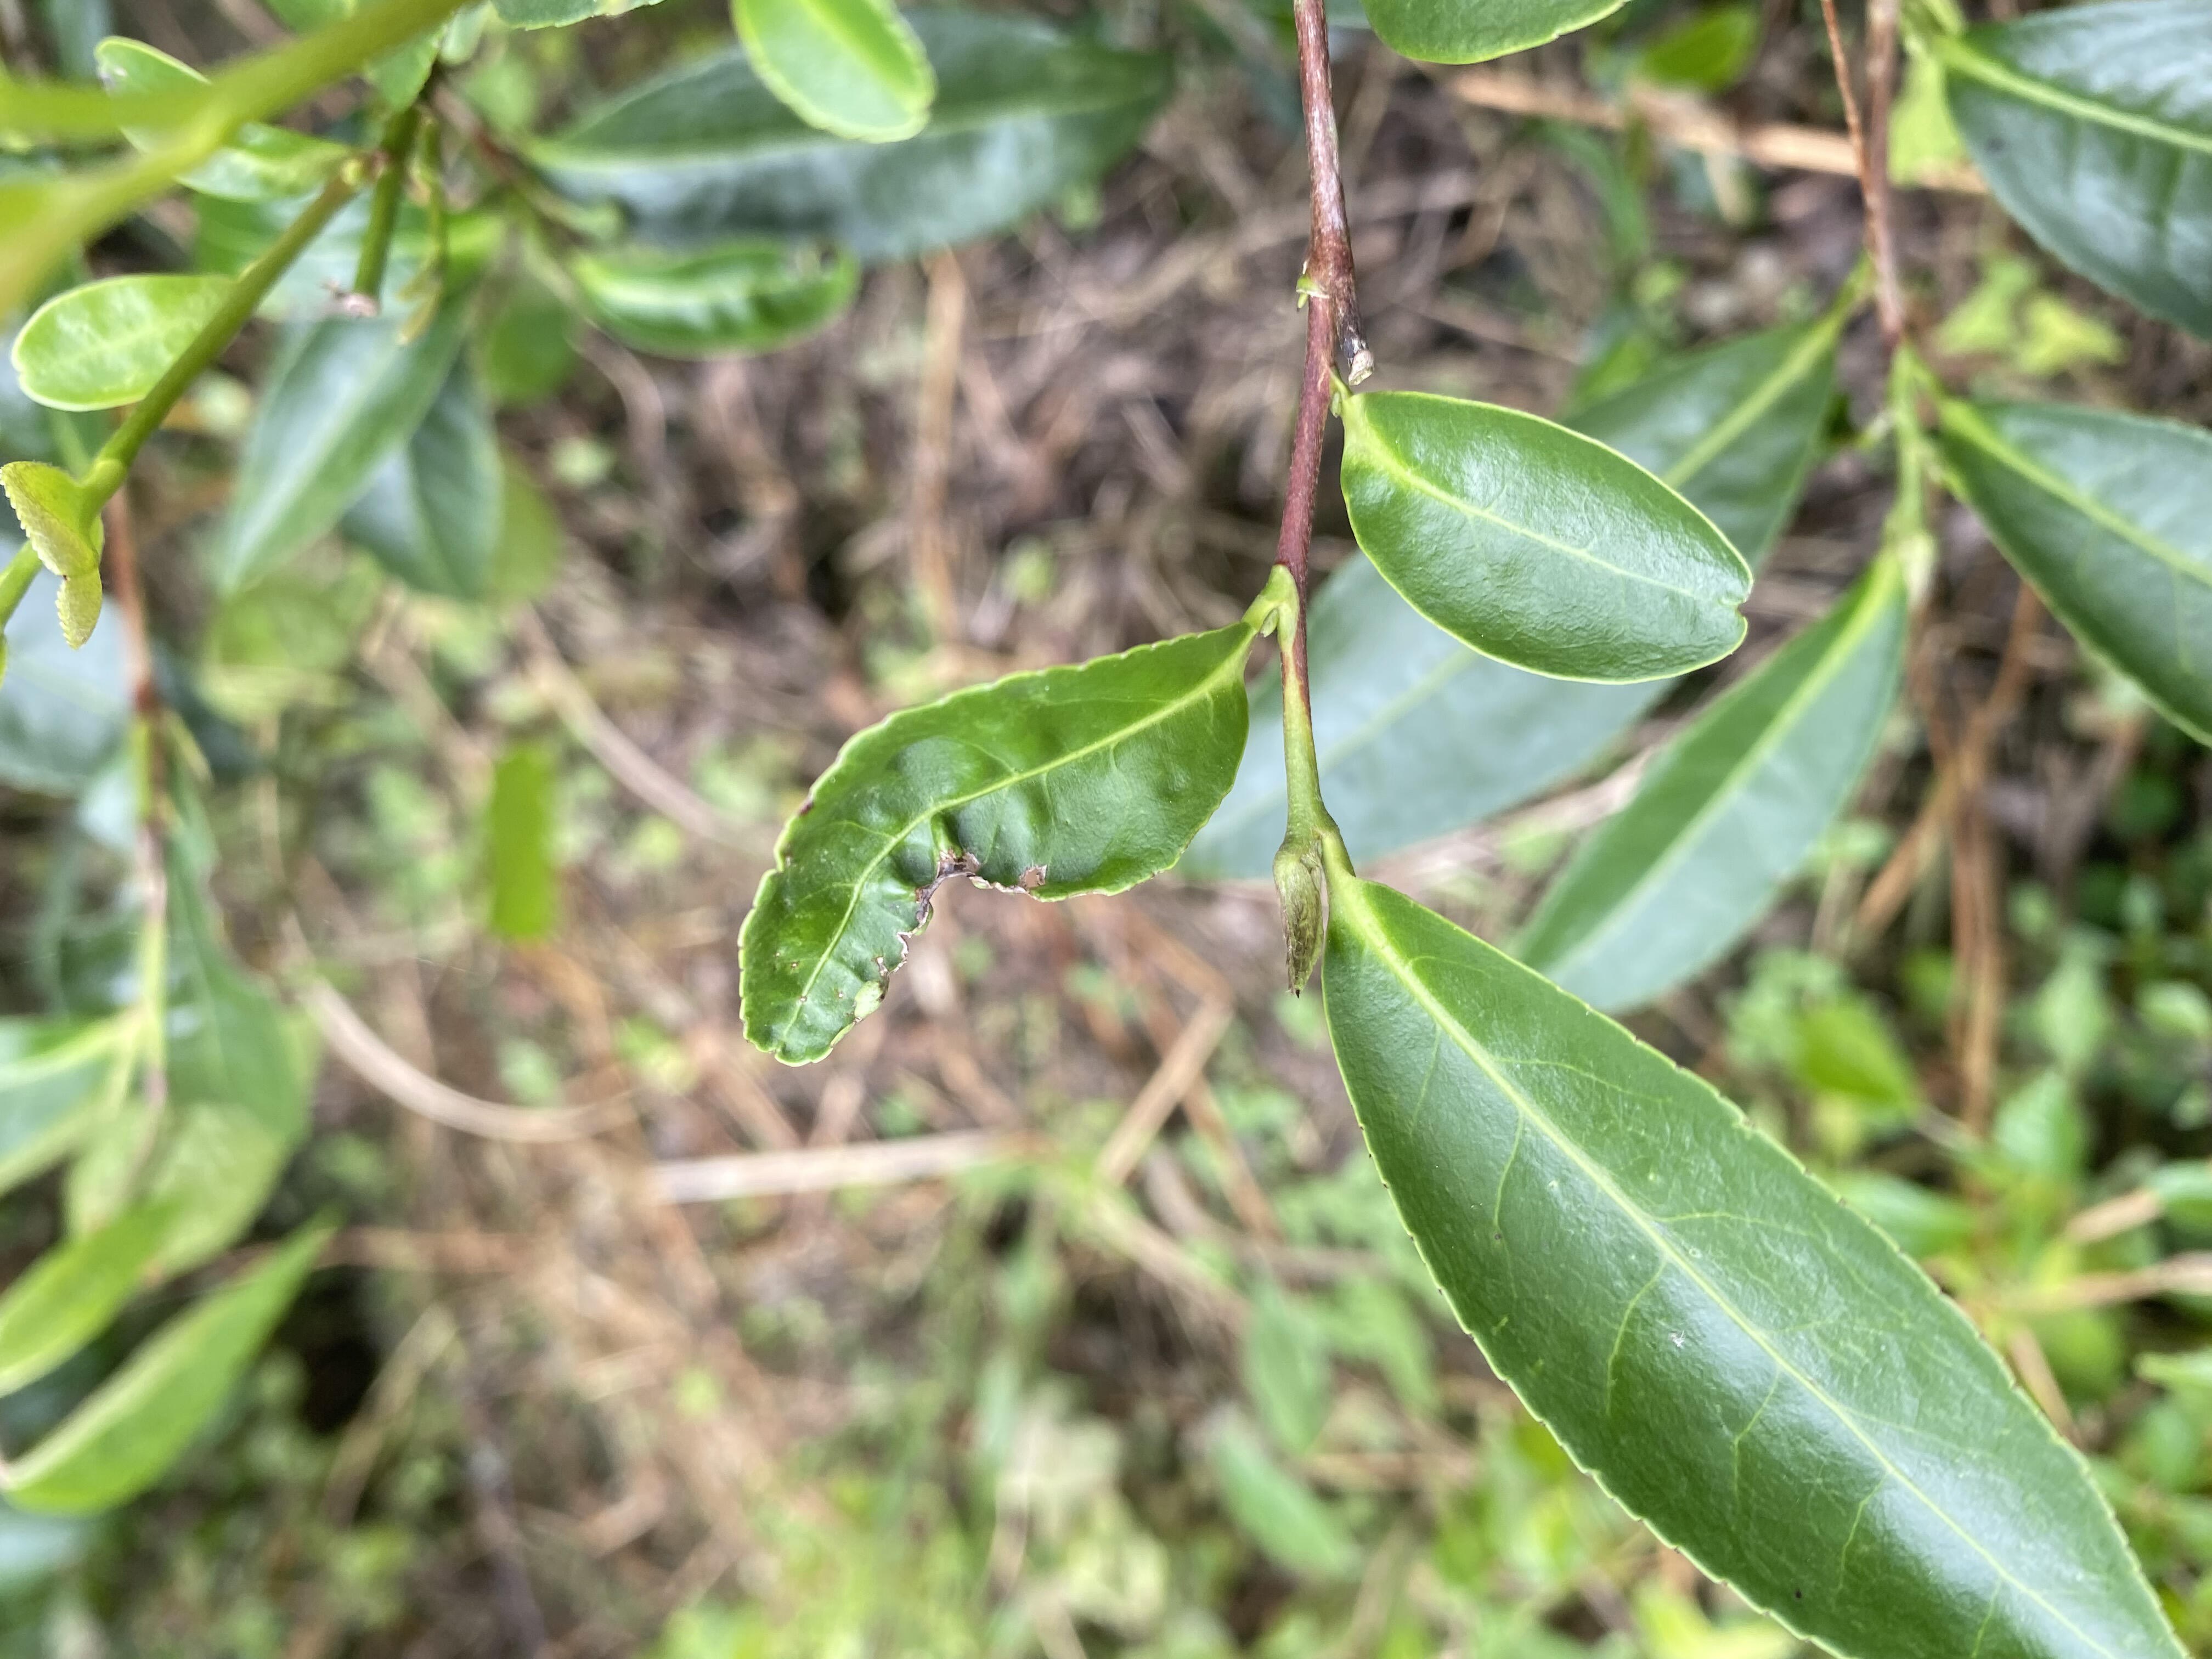chihuo_high: (733, 617, 1251, 1068)
healthy: (1318, 880, 2189, 1657), (1338, 389, 1750, 681)
